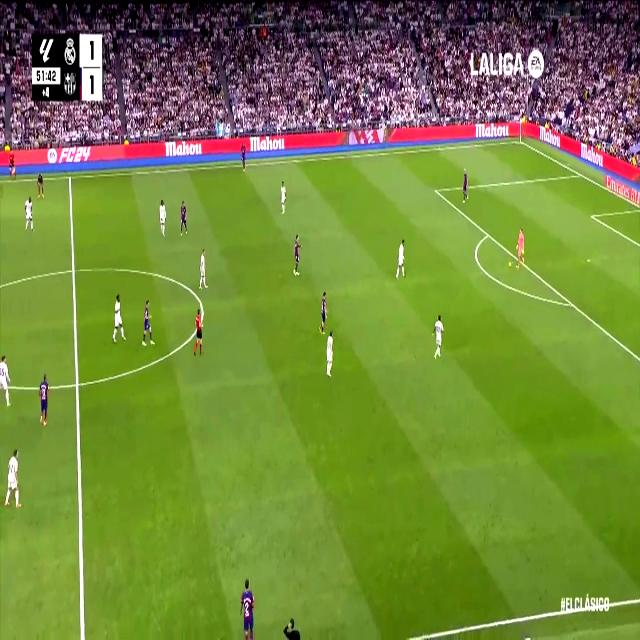bigarea_top_inner: (433, 184, 439, 196)
bottom_arc_area_intersection: (566, 294, 576, 312)
corner: (516, 134, 524, 144)
halfcircle_bottom: (72, 370, 83, 397)
halfcircle_top: (68, 259, 79, 281)
midline_top_intersection: (67, 171, 73, 184)
smallarea_top_inner: (590, 212, 594, 220)
top_arc_area_intersection: (485, 227, 491, 241)
